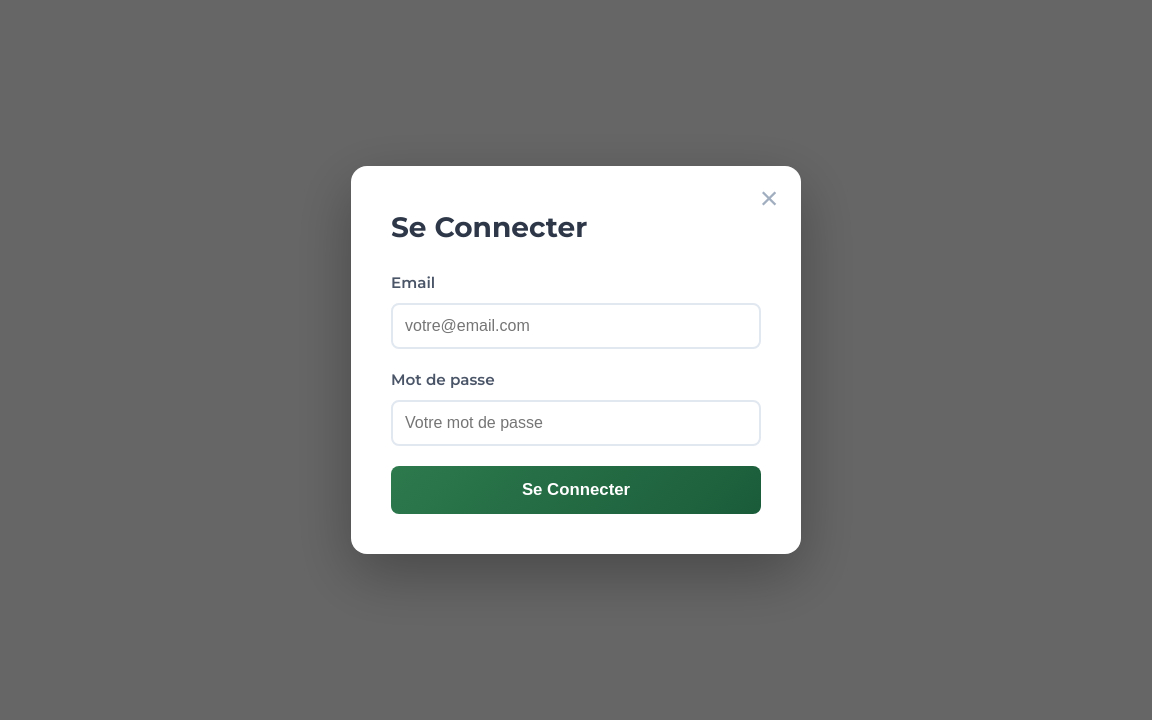
LoginModal Component › disables submit button while loading
In the field with placeholder "votre@email.com": (576, 326) [391,303,761,349], type "test@example.com"
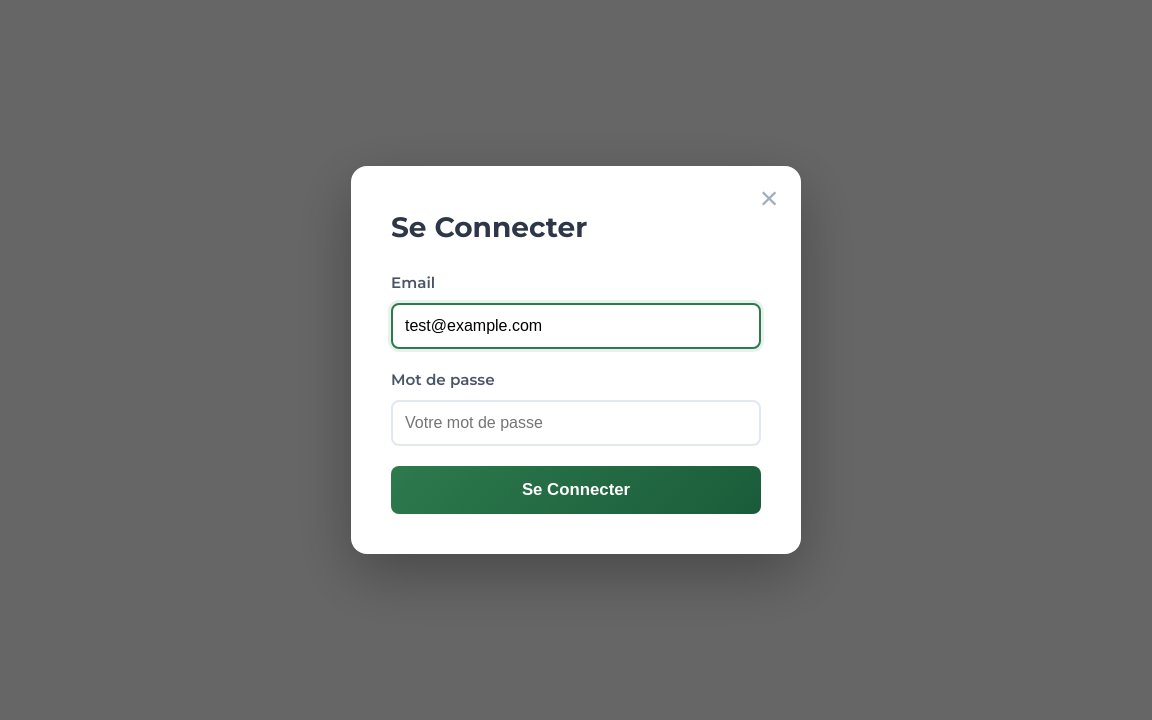
In the password field with placeholder "Votre mot de passe": (576, 423) [391,400,761,446], type "password123"
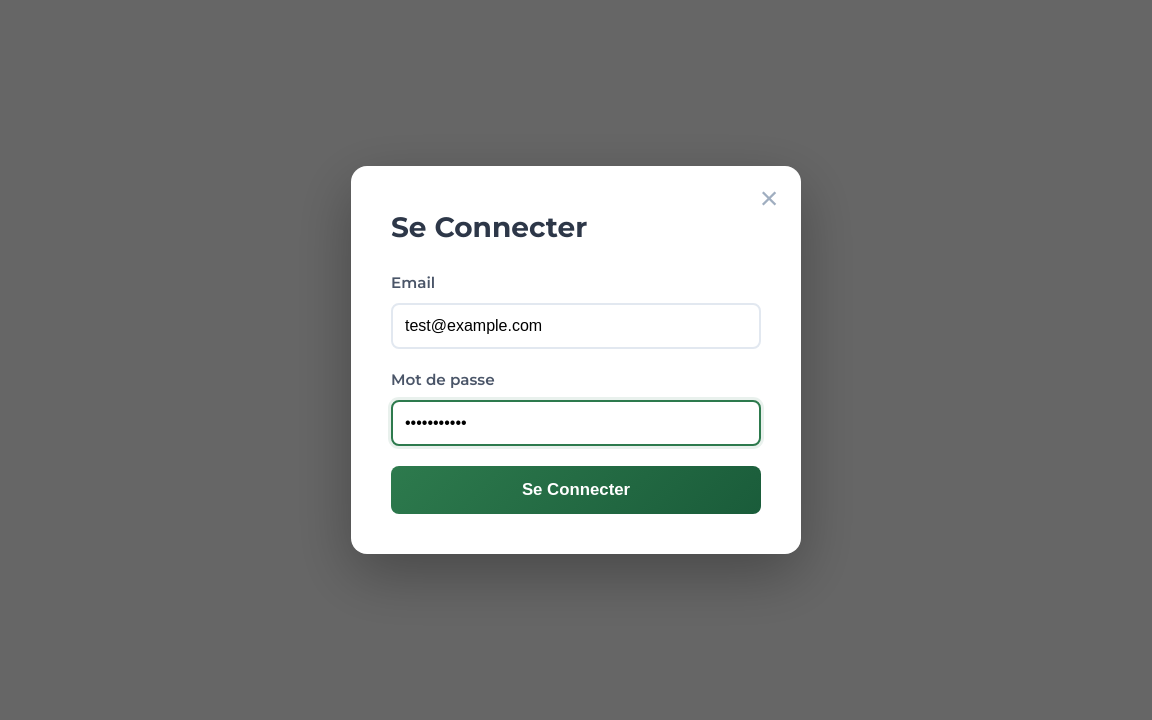
Click the button "Se Connecter": (576, 490) [391,466,761,514]
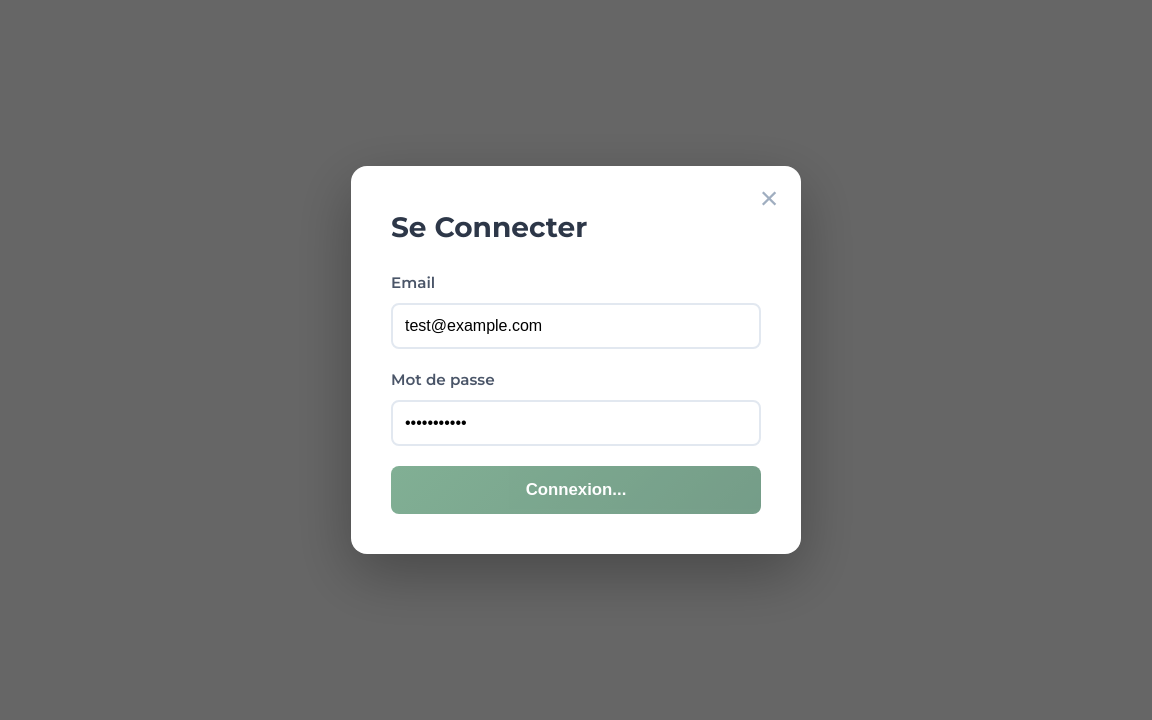
Expected: the button "Connexion..." is disabled, [391,466,761,514]
